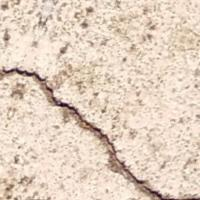crack: (2, 59, 187, 199)
